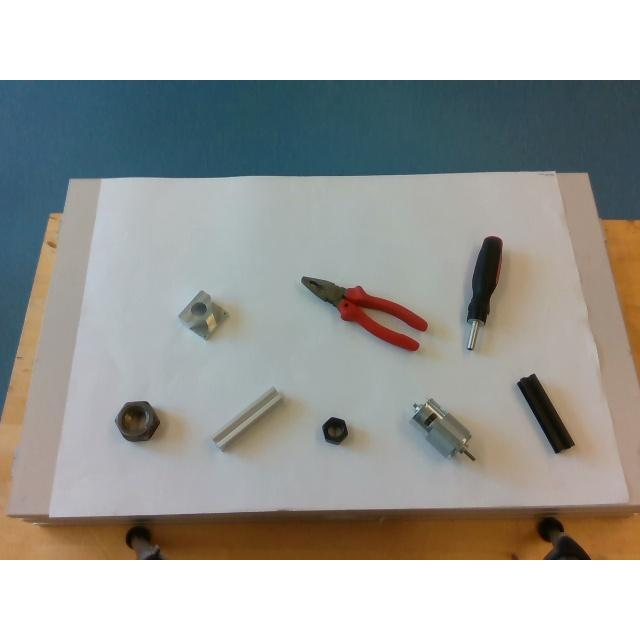F20_20_B: (517, 373, 573, 453)
F20_20_G: (212, 386, 282, 450)
M20: (322, 416, 348, 444)
M30: (114, 401, 158, 441)
Motor2: (411, 398, 475, 460)
